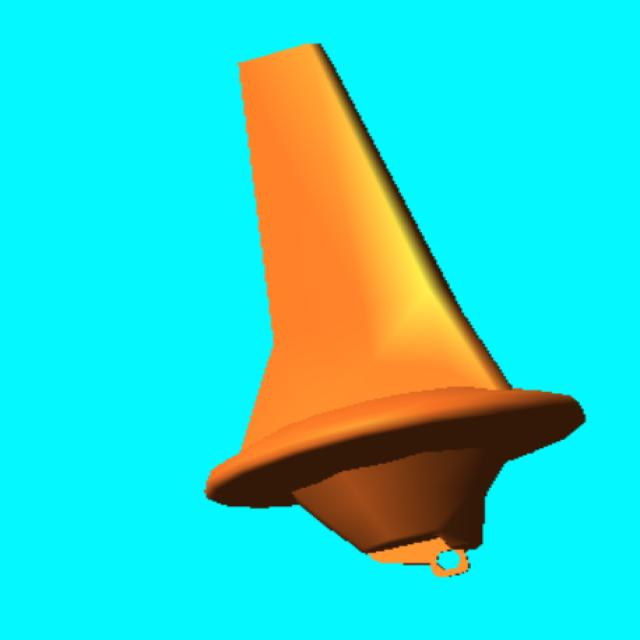OrangeBuoy: (207, 44, 591, 579)
